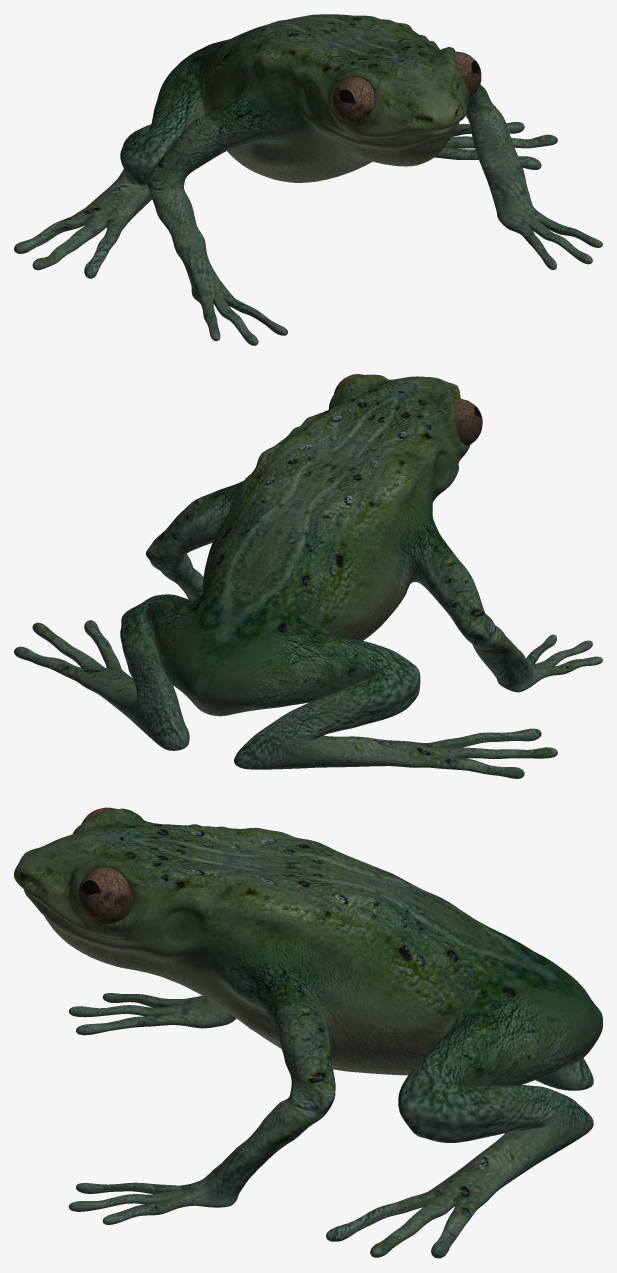
File: frog.glb
3 views of the same model, one above another, from view 1: azimuth 30°, elevation 25°; view 2: azimuth 150°, elevation 25°; view 3: azimuth 270°, elevation 25° (orthographic). The views are drawn at different scales.
Visible parts, largest first — view 1: Frog_frog _0, Eye_L_eye_0; view 2: Frog_frog _0, Eye_L_eye_0; view 3: Frog_frog _0, Eye_L_eye_0.
Part boxes in pixels (x1=…): Frog_frog _0: x1=14, y1=14, x2=602, y2=345; Eye_L_eye_0: x1=332, y1=51, x2=481, y2=125; Frog_frog _0: x1=14, y1=374, x2=602, y2=778; Eye_L_eye_0: x1=334, y1=374, x2=482, y2=445; Frog_frog _0: x1=14, y1=808, x2=602, y2=1258; Eye_L_eye_0: x1=78, y1=807, x2=132, y2=924.
Bounding box in the file's own units: 0.1473 × 0.0625 × 0.1199.
2 materials, 2 textured.
